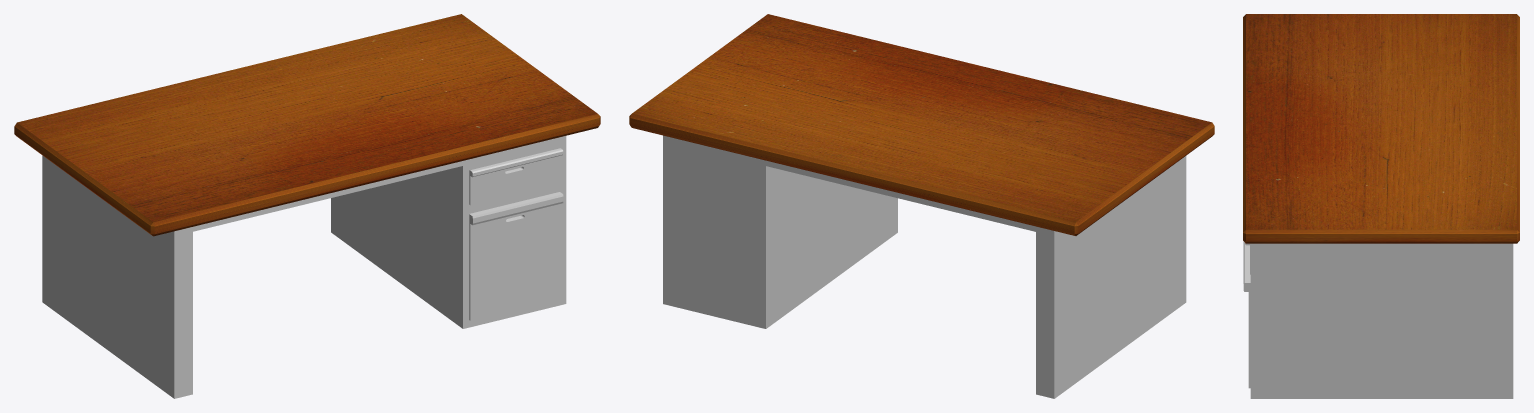
The model's file is desk_cctv.FBX.
The picture shows the model from 3 angles, left to right: view 1: azimuth 30°, elevation 25°; view 2: azimuth 150°, elevation 25°; view 3: azimuth 270°, elevation 25°; orthographic projection.
Visible parts, largest first — view 1: Box002, Box001, Box004, Box003; view 2: Box002, Box001; view 3: Box002, Box001, Box004.
Part boxes in pixels (<box>): Box002: <box>14,14,600,236</box>; Box001: <box>42,136,566,398</box>; Box004: <box>469,192,563,320</box>; Box003: <box>469,148,563,205</box>; Box002: <box>629,14,1214,235</box>; Box001: <box>663,135,1186,398</box>; Box002: <box>1243,14,1519,243</box>; Box001: <box>1250,243,1513,398</box>; Box004: <box>1243,241,1250,388</box>.
Bounding box in the file's own units: 77.11 × 30.26 × 41.35.
